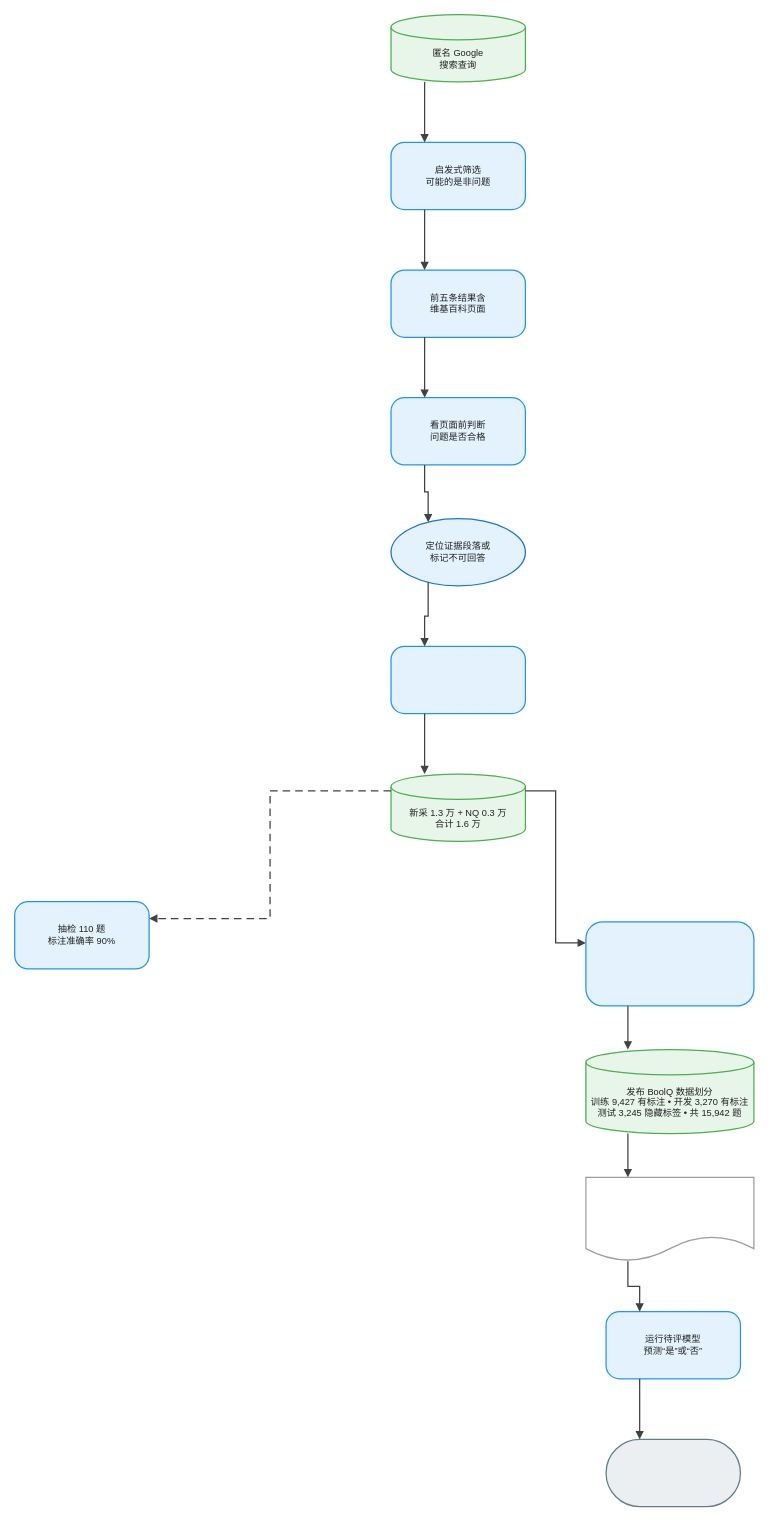
The diagram is 769 pixels wide and 1522 high, and some of its shapes have lost their labels. Here are the shapes that lost their labels. From the top down, the box of each, then its label:
(390, 645, 526, 714): 标注“是 / 否” 答案
(585, 921, 754, 1006): 切分构建完成的数据池 所有 NQ 来源题目放入训练集
(585, 1176, 754, 1262): 构建与评测边界 向模型输入问题 + 支持段落 金标“是 / 否”对模型隐藏并用于评分
(605, 1438, 741, 1507): 模型准确率
